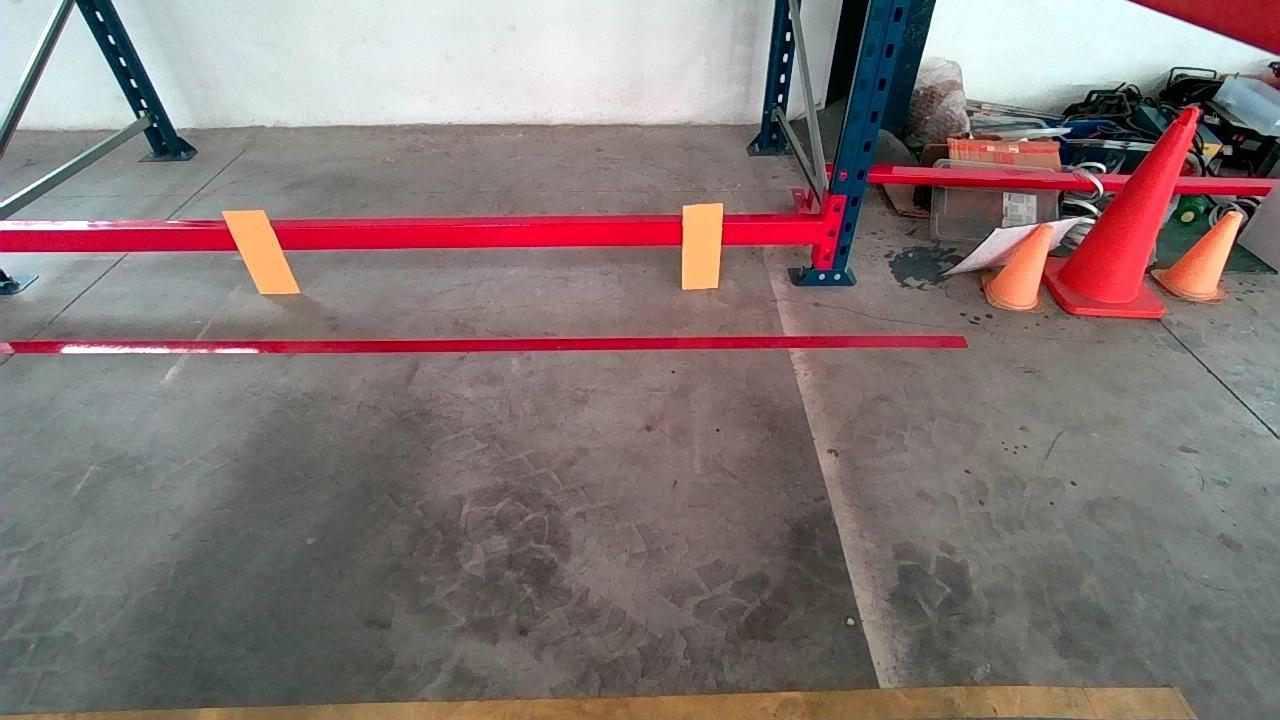h_rack: (5, 212, 823, 255)
orange_strip: (223, 210, 297, 292), (682, 203, 722, 287)
red_line: (2, 323, 969, 355)
yellow_line: (10, 674, 1179, 720)
